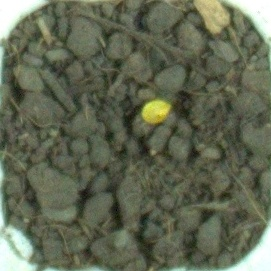pepper seed: (54, 35, 228, 161)
